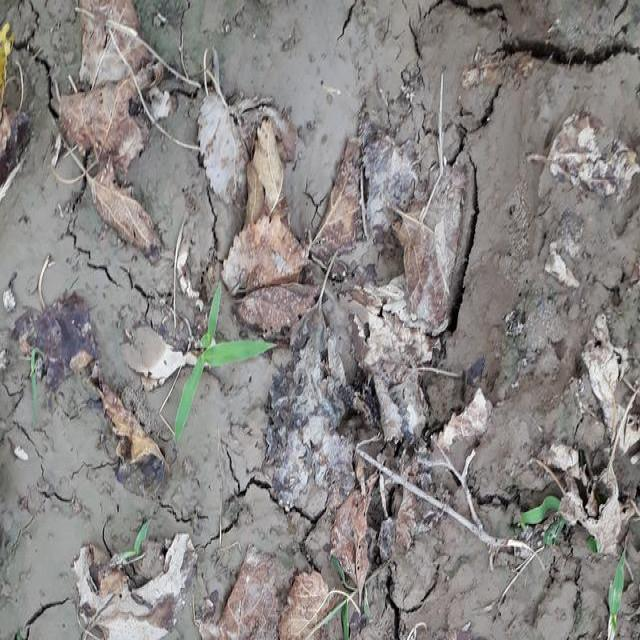weed: (163, 285, 271, 457), (326, 563, 367, 637), (604, 556, 632, 640), (22, 336, 43, 420), (111, 522, 148, 566), (521, 492, 556, 534)
